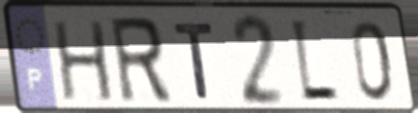0: (350, 19, 395, 103)
2: (230, 9, 287, 112)
H: (50, 18, 118, 105)
L: (287, 16, 342, 107)
R: (106, 15, 176, 108)
T: (171, 20, 218, 102)
